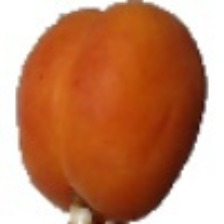apricot: (13, 29, 198, 186)
